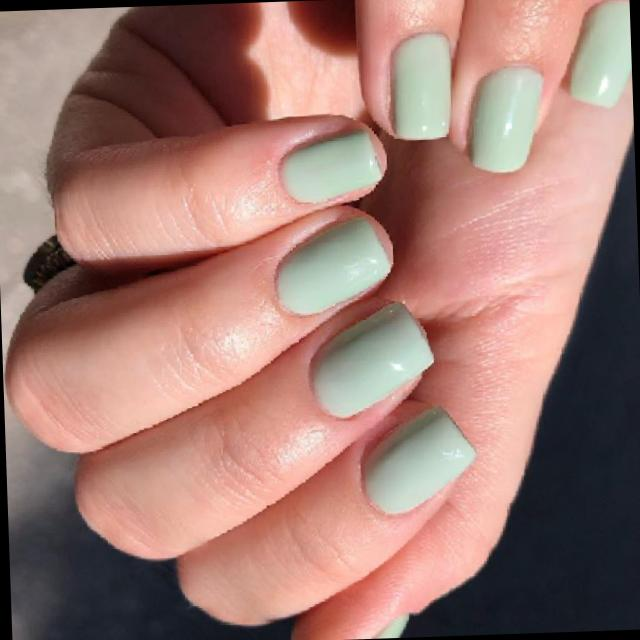Nail: (311, 302, 433, 418), (364, 407, 475, 512), (276, 218, 389, 314), (469, 66, 542, 173), (281, 131, 381, 203), (568, 0, 631, 107), (393, 34, 451, 139)
